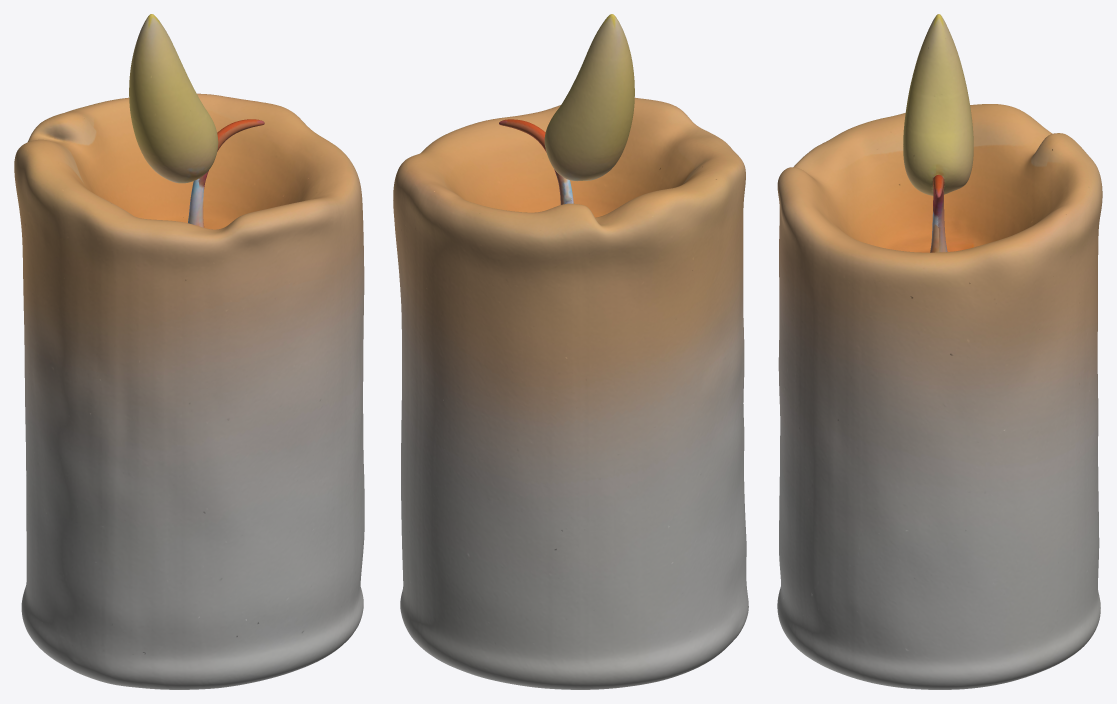
Rendered from 3DCandle.fbx.
The picture shows the model from 3 angles, left to right: view 1: azimuth 30°, elevation 25°; view 2: azimuth 150°, elevation 25°; view 3: azimuth 270°, elevation 25°; orthographic projection. The views are drawn at different scales.
Visible parts, largest first — view 1: tripo_node_55b36d26; view 2: tripo_node_55b36d26; view 3: tripo_node_55b36d26.
Part boxes in pixels (x1,y1,x2,y2): tripo_node_55b36d26: [14, 14, 364, 689]; tripo_node_55b36d26: [393, 14, 748, 689]; tripo_node_55b36d26: [777, 14, 1102, 689].
Size of the model in its own units: 49.95 by 100 by 49.22.
Materials: 1 (1 with a texture image).
